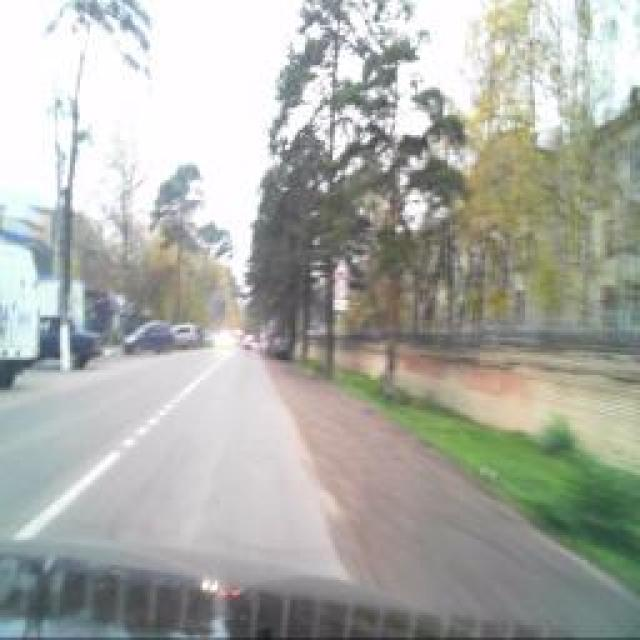sign: (332, 279, 348, 299)
